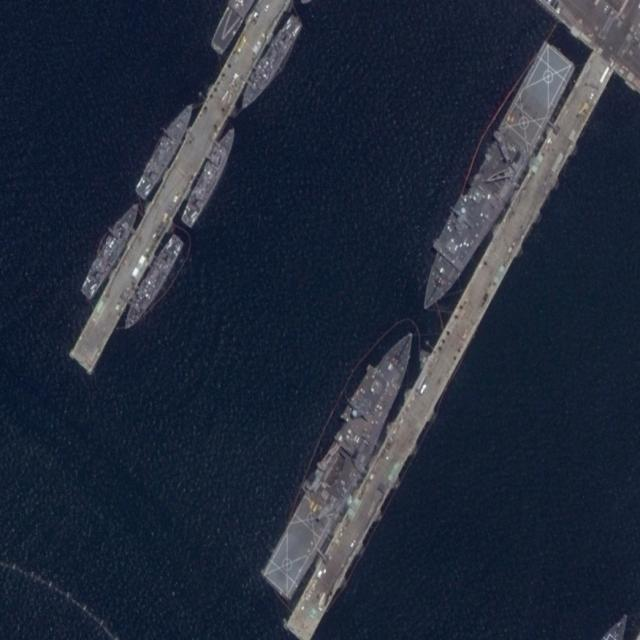Landing: (255, 316, 430, 603), (408, 34, 576, 325)
Other Ship: (234, 10, 305, 116), (118, 228, 186, 338), (132, 94, 198, 203), (78, 194, 144, 302), (178, 120, 242, 231)
